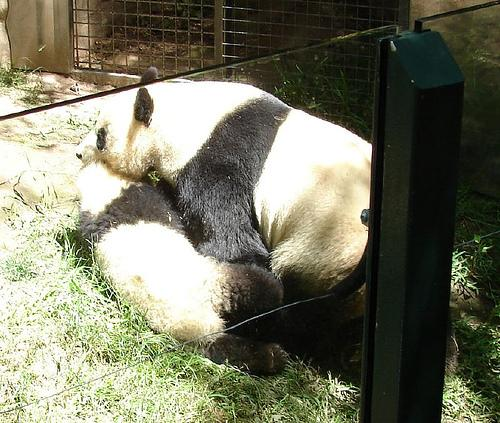panda: (77, 81, 371, 372)
